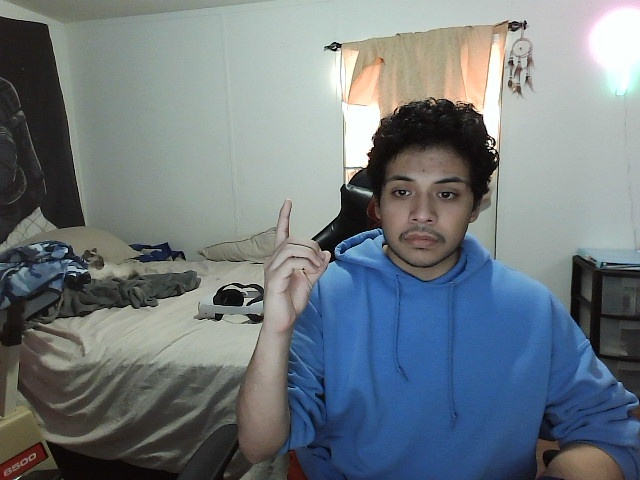D: (256, 192, 334, 333)
